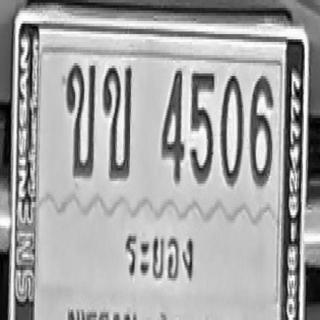A02: (65, 62, 96, 177), (102, 63, 132, 178)
N00: (220, 72, 243, 185)
N04: (161, 67, 184, 182)
N05: (190, 71, 215, 184)
N06: (249, 73, 273, 186)
